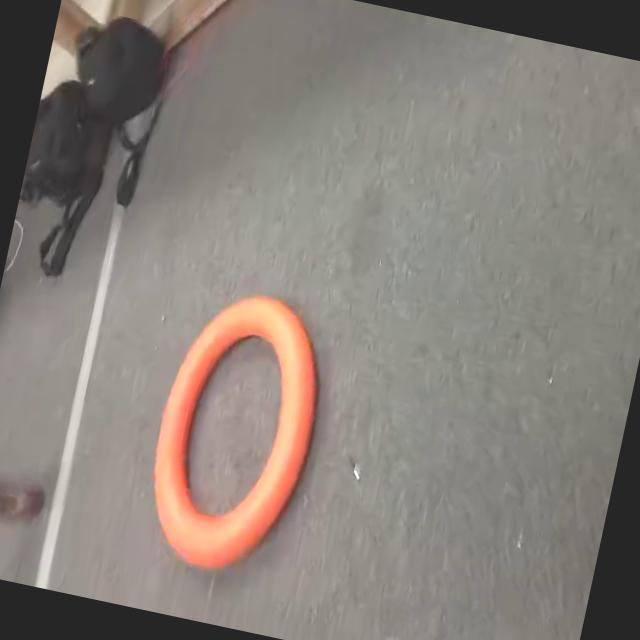note: (125, 270, 348, 610)
